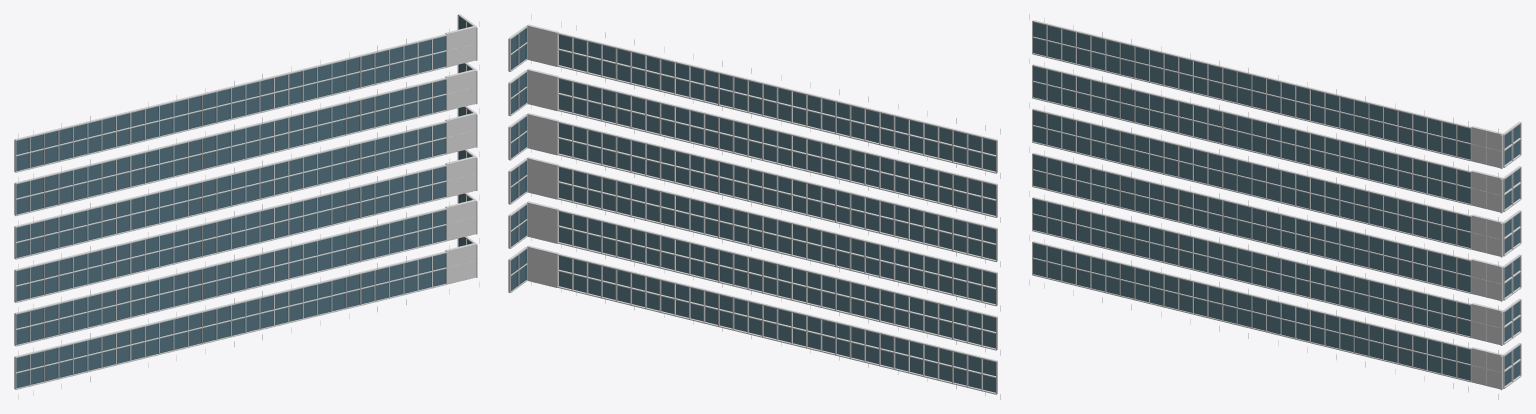
The model's file is Hospital_EXT_FrontTower.fbx.
The picture shows the model from 3 angles, left to right: view 1: azimuth 30°, elevation 25°; view 2: azimuth 150°, elevation 25°; view 3: azimuth 330°, elevation 25°; orthographic projection.
Parts seen in each view (by area): view 1: UE_EXT_FrontTower_GLASS_L05_07_02, UE_EXT_FrontTower_GLASS_L02_04_02, UE_EXT_FrontTower_OPAQUE_L05_07_01, UE_EXT_FrontTower_OPAQUE_L02_04_01, UE_EXT_FrontTower_OPAQUE_L02_04_03, UE_EXT_FrontTower_OPAQUE_L05_07_03, UE_EXT_FrontTower_GLASS_L05_07_01, UE_EXT_FrontTower_GLASS_L02_04_01, UE_EXT_FrontTower_OPAQUE_L05_07_02, UE_EXT_FrontTower_OPAQUE_L02_04_02; view 2: UE_EXT_FrontTower_GLASS_L02_04_02, UE_EXT_FrontTower_GLASS_L05_07_02, UE_EXT_FrontTower_OPAQUE_L02_04_01, UE_EXT_FrontTower_OPAQUE_L05_07_01, UE_EXT_FrontTower_OPAQUE_L05_07_03, UE_EXT_FrontTower_OPAQUE_L02_04_03, UE_EXT_FrontTower_GLASS_L05_07_01, UE_EXT_FrontTower_GLASS_L02_04_01; view 3: UE_EXT_FrontTower_GLASS_L02_04_02, UE_EXT_FrontTower_GLASS_L05_07_02, UE_EXT_FrontTower_OPAQUE_L02_04_01, UE_EXT_FrontTower_OPAQUE_L05_07_01, UE_EXT_FrontTower_OPAQUE_L05_07_03, UE_EXT_FrontTower_OPAQUE_L02_04_03, UE_EXT_FrontTower_GLASS_L02_04_01, UE_EXT_FrontTower_GLASS_L05_07_01, UE_EXT_FrontTower_OPAQUE_L05_07_02, UE_EXT_FrontTower_OPAQUE_L02_04_02.
Boxes of the visible parts, x1,y1,x2,y2 form: UE_EXT_FrontTower_GLASS_L05_07_02: [16, 16, 472, 257]; UE_EXT_FrontTower_GLASS_L02_04_02: [16, 150, 472, 388]; UE_EXT_FrontTower_OPAQUE_L05_07_01: [14, 14, 477, 259]; UE_EXT_FrontTower_OPAQUE_L02_04_01: [14, 149, 477, 389]; UE_EXT_FrontTower_OPAQUE_L02_04_03: [445, 156, 476, 284]; UE_EXT_FrontTower_OPAQUE_L05_07_03: [445, 25, 476, 154]; UE_EXT_FrontTower_GLASS_L05_07_01: [431, 34, 447, 157]; UE_EXT_FrontTower_GLASS_L02_04_01: [431, 164, 447, 288]; UE_EXT_FrontTower_OPAQUE_L05_07_02: [18, 21, 479, 269]; UE_EXT_FrontTower_OPAQUE_L02_04_02: [18, 161, 479, 399]; UE_EXT_FrontTower_GLASS_L02_04_02: [511, 160, 995, 392]; UE_EXT_FrontTower_GLASS_L05_07_02: [511, 28, 995, 259]; UE_EXT_FrontTower_OPAQUE_L02_04_01: [508, 158, 997, 394]; UE_EXT_FrontTower_OPAQUE_L05_07_01: [508, 25, 997, 262]; UE_EXT_FrontTower_OPAQUE_L05_07_03: [527, 24, 558, 155]; UE_EXT_FrontTower_OPAQUE_L02_04_03: [527, 157, 558, 287]; UE_EXT_FrontTower_GLASS_L05_07_01: [557, 32, 573, 158]; UE_EXT_FrontTower_GLASS_L02_04_01: [557, 165, 573, 291]; UE_EXT_FrontTower_GLASS_L02_04_02: [1033, 155, 1519, 385]; UE_EXT_FrontTower_GLASS_L05_07_02: [1033, 22, 1519, 253]; UE_EXT_FrontTower_OPAQUE_L02_04_01: [1032, 152, 1521, 390]; UE_EXT_FrontTower_OPAQUE_L05_07_01: [1032, 20, 1521, 257]; UE_EXT_FrontTower_OPAQUE_L05_07_03: [1471, 126, 1502, 256]; UE_EXT_FrontTower_OPAQUE_L02_04_03: [1471, 258, 1502, 389]; UE_EXT_FrontTower_GLASS_L02_04_01: [1456, 256, 1471, 382]; UE_EXT_FrontTower_GLASS_L05_07_01: [1456, 123, 1471, 249]; UE_EXT_FrontTower_OPAQUE_L05_07_02: [1029, 14, 1500, 266]; UE_EXT_FrontTower_OPAQUE_L02_04_02: [1029, 191, 1500, 399].
Bounding box in the file's own units: 43.48 × 23.94 × 3.46.
